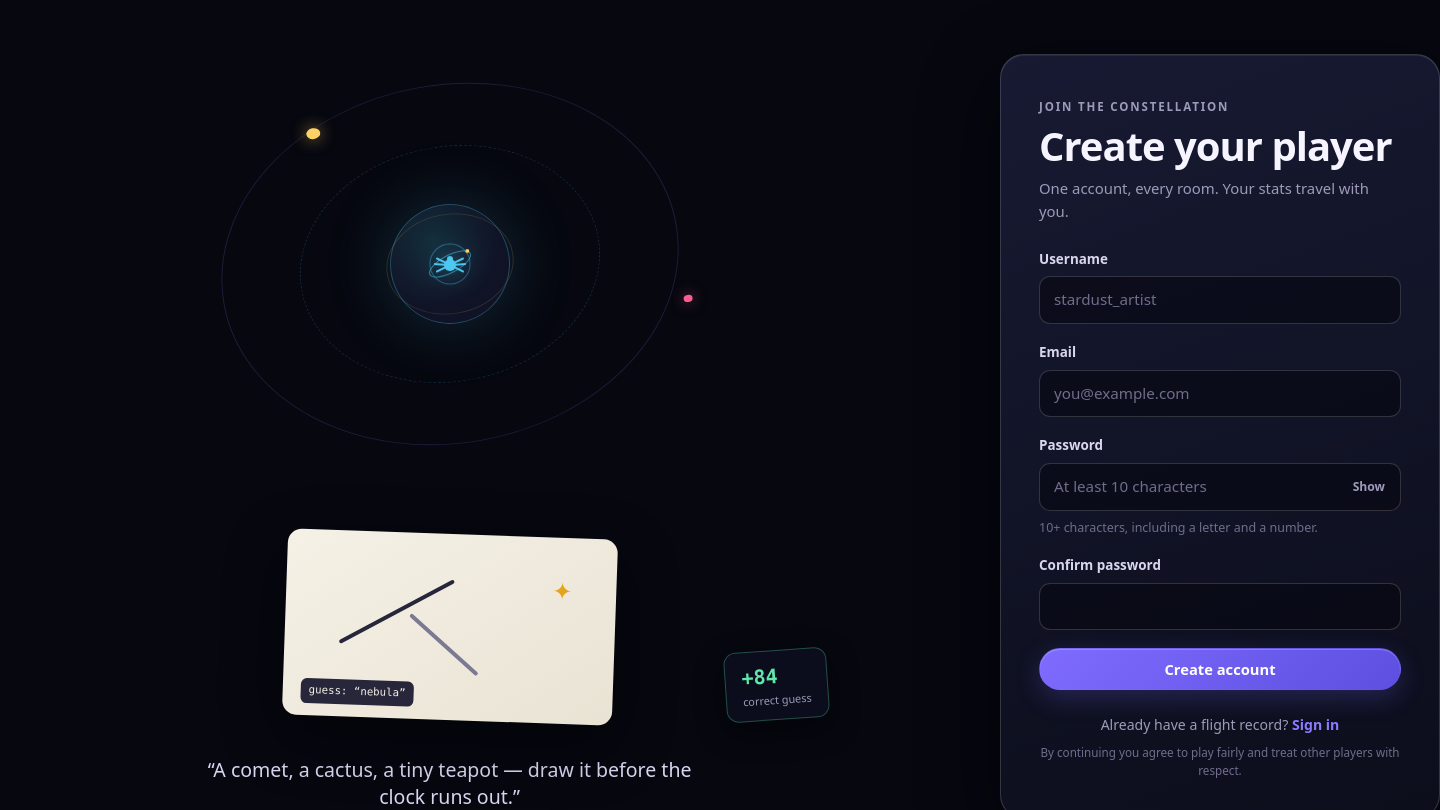
Test case: AuthPage › validates registration fields before contacting the server
Step 1. Type "ab" into the field labelled "Username" → (1220, 300), box 1039,276 -> 1401,324
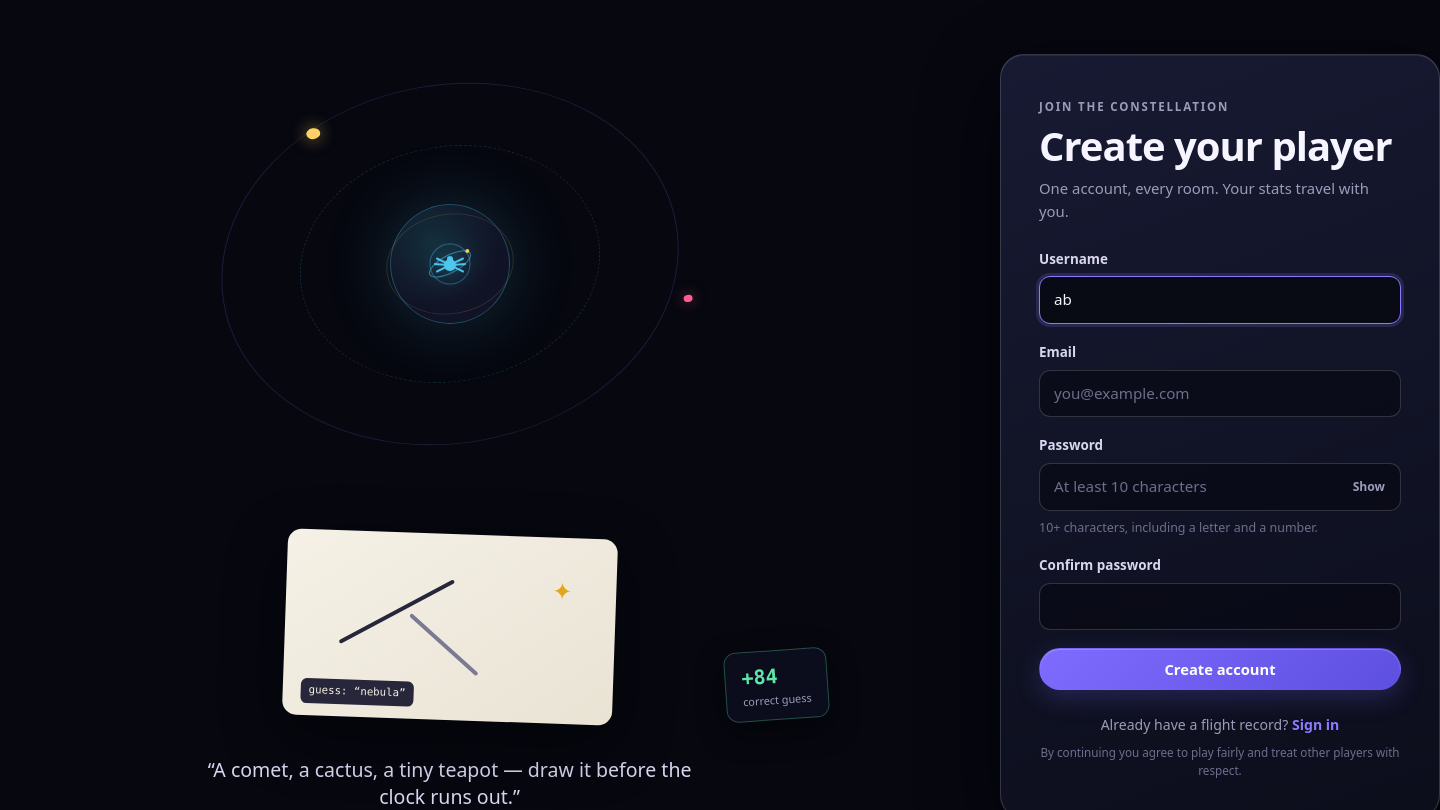
Step 2. Type "not-an-email" into the field labelled "Email" → (1220, 394), box 1039,370 -> 1401,417
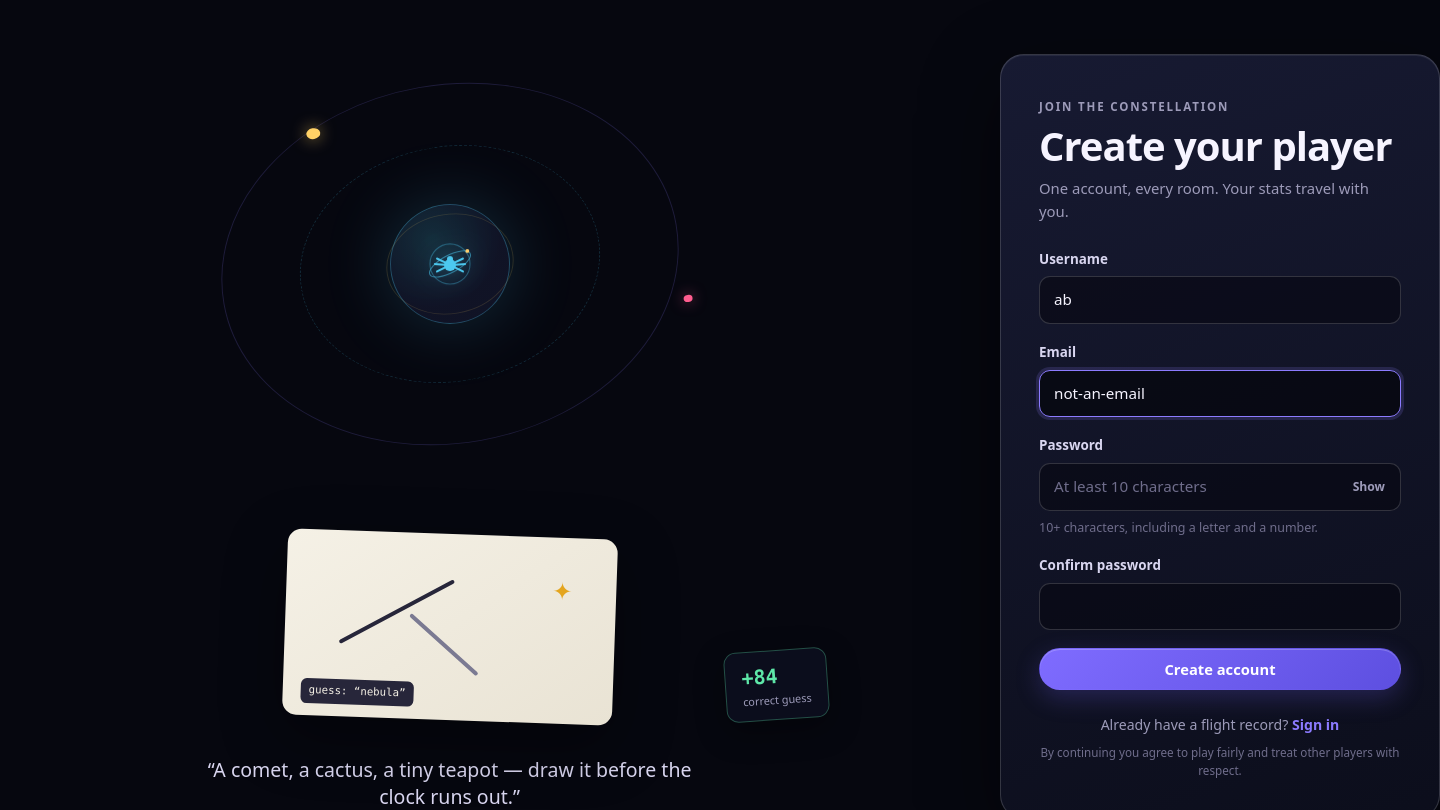
Step 3. Type "short" into the password field labelled "Password" → (1220, 487), box 1039,463 -> 1401,511
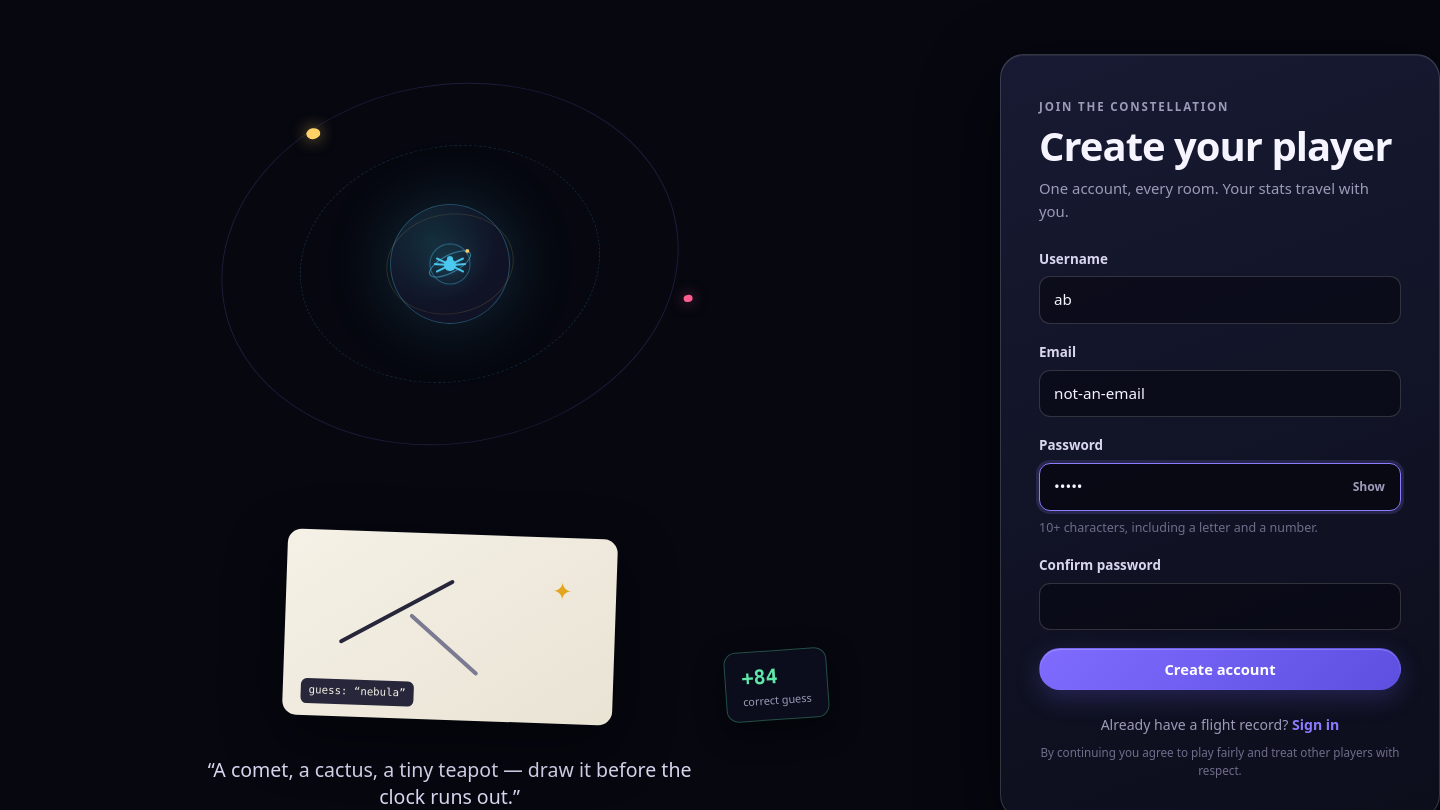
Step 4. Type "different" into the password field labelled "Confirm password" → (1220, 607), box 1039,583 -> 1401,630
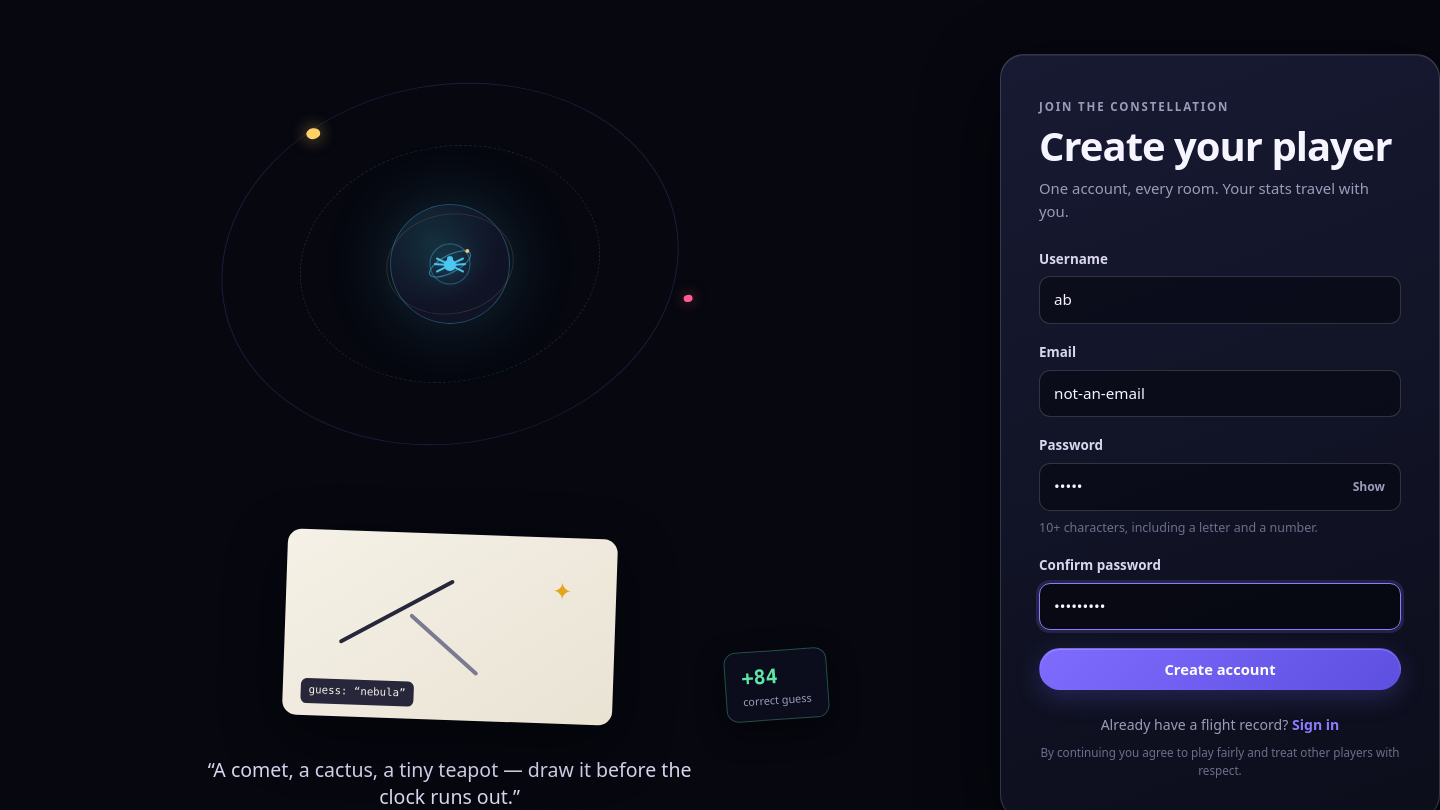
Step 5. Click the button "Create account" → click(1220, 669), box 1039,648 -> 1401,690
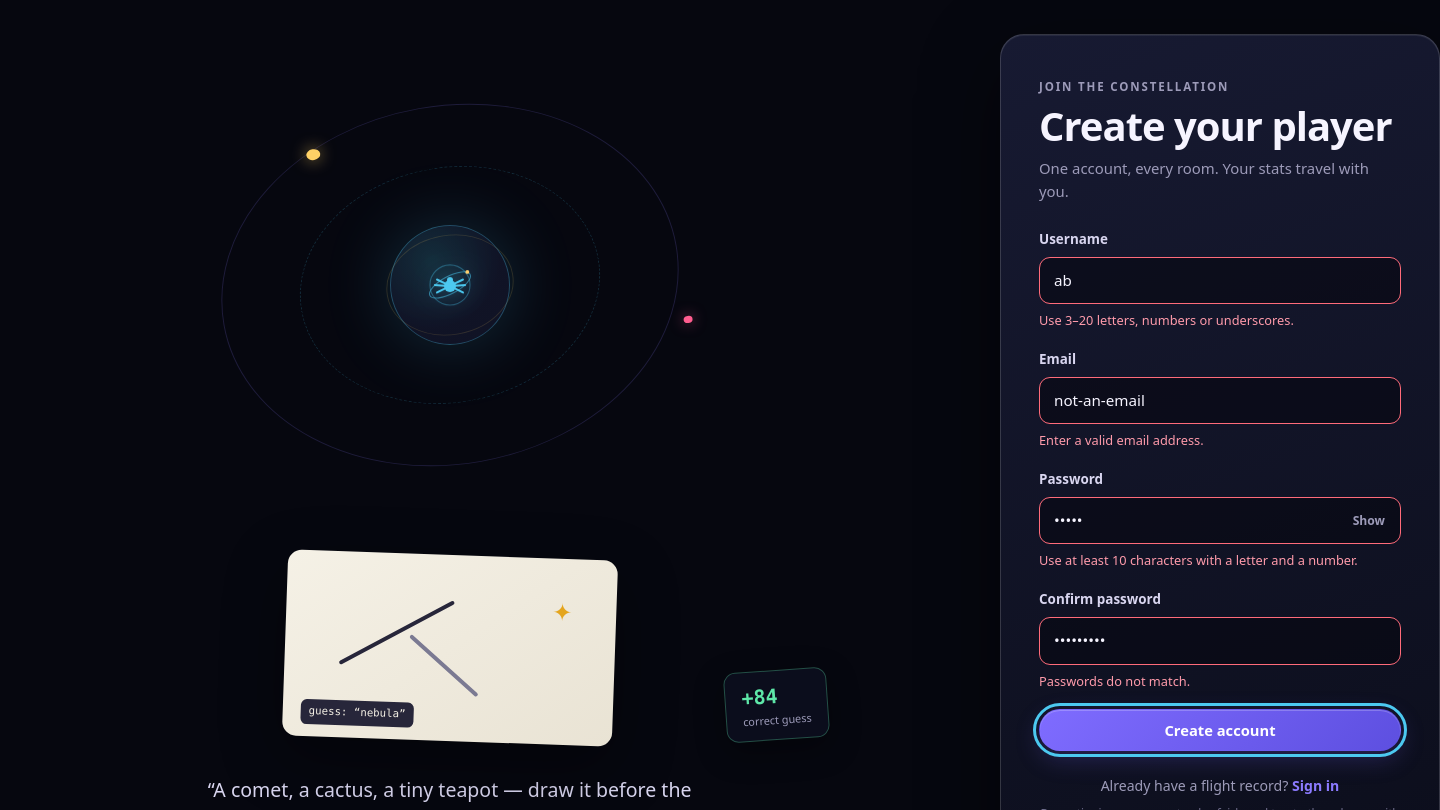
Result: the text "Use 3–20 letters, numbers or underscores." is shown at 1039,311 -> 1294,329
Result: the text "Enter a valid email address." is shown at 1039,431 -> 1204,449
Result: the text "Use at least 10 characters with a letter and a number." is shown at 1039,552 -> 1401,571
